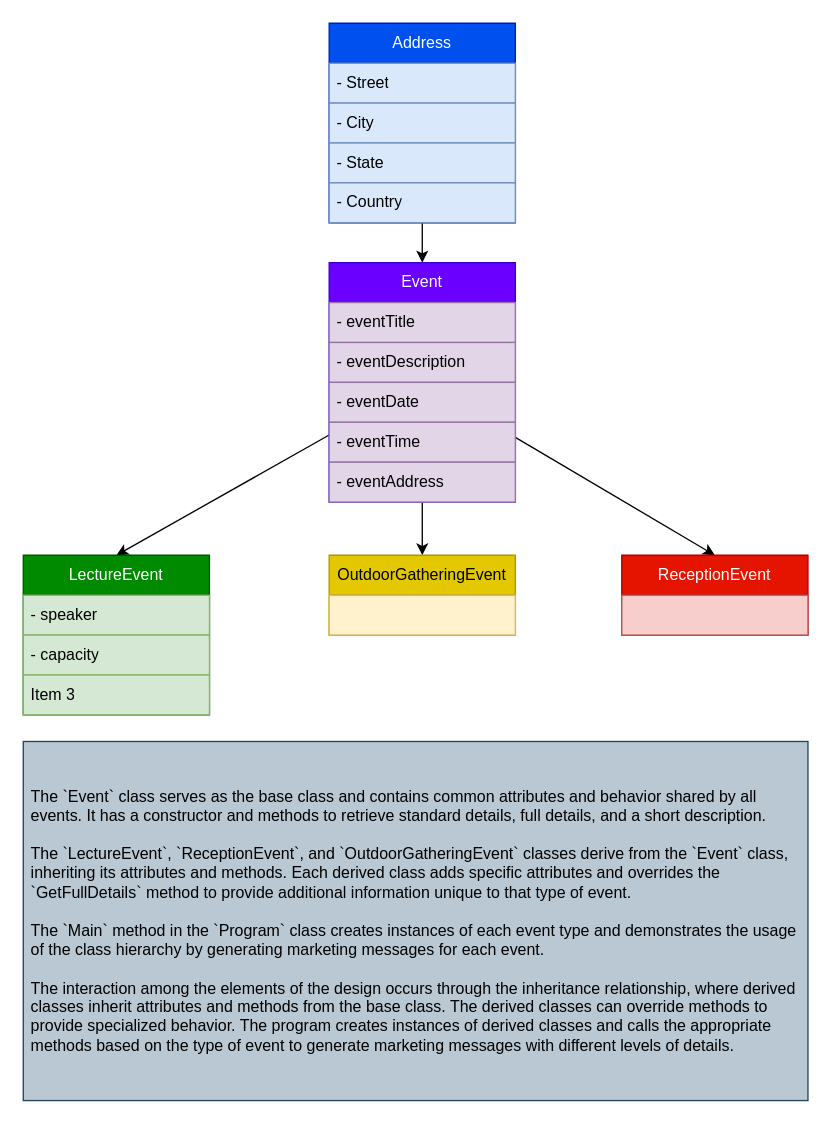
This 831x1124 diagram has some shape labels left out. Each missing label, with the centre of its shape:
"- rsvpEmail" belongs at point 714,614.
"- weatherForecast" belongs at point 421,614.
